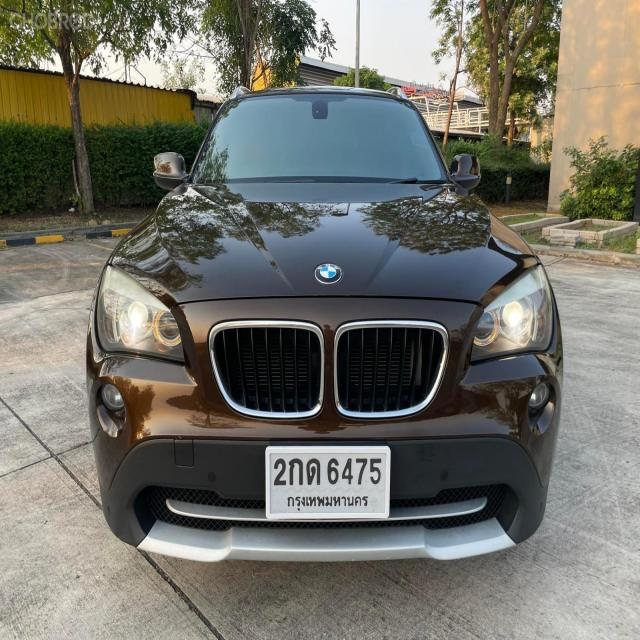license_plate: (264, 440, 392, 522)
